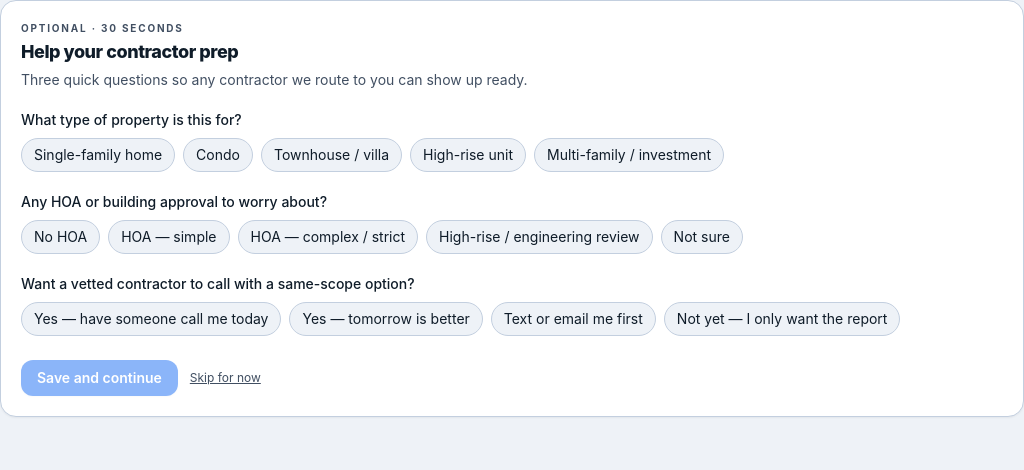
PropertyAndConsentStep consent submission lifecycle › keeps the same submissionId for an identical retry after a failure
Later steps or results of the test are not shown.
Step 1. Click the radio button labelled "Single-family home" → click(98, 155), box 21,138 -> 175,172
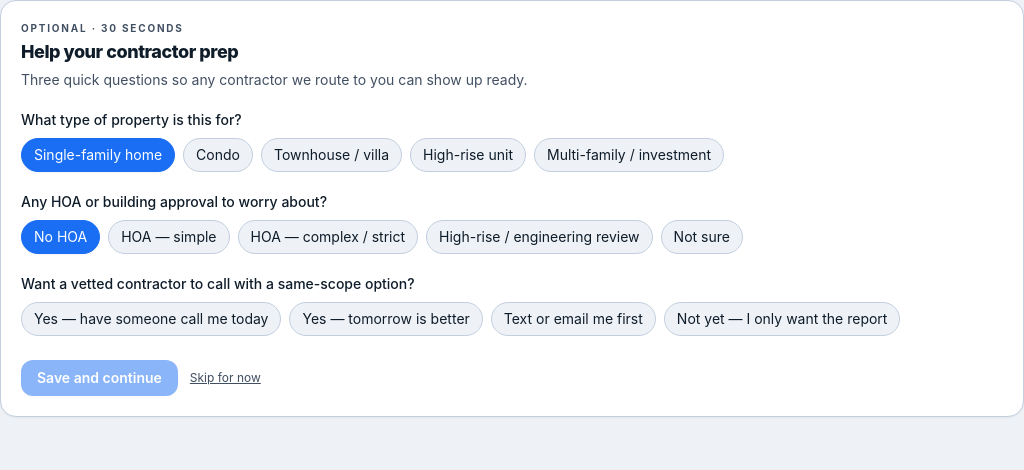
Step 2. Click the radio button labelled "No HOA" → click(61, 237), box 21,220 -> 100,254
Step 3. Click the radio button labelled "Not yet — I only want the report" → click(782, 319), box 664,302 -> 900,336
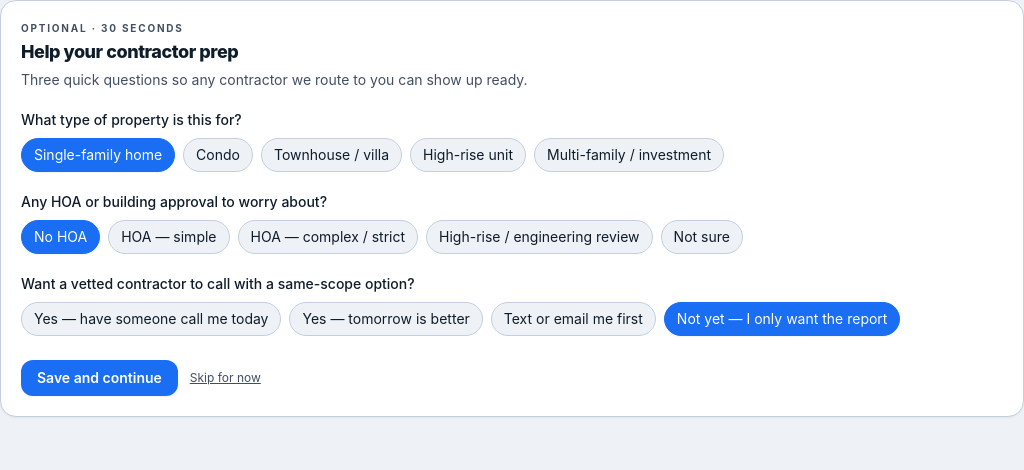
Step 4. Click the button "Save and continue" → click(99, 378), box 21,360 -> 178,396
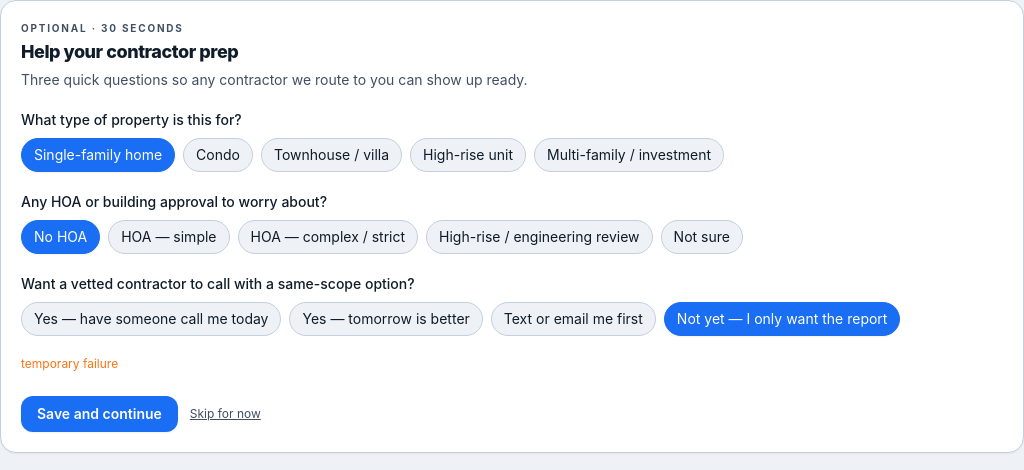
Check: the message "temporary failure" is shown, box 21,356 -> 118,371
